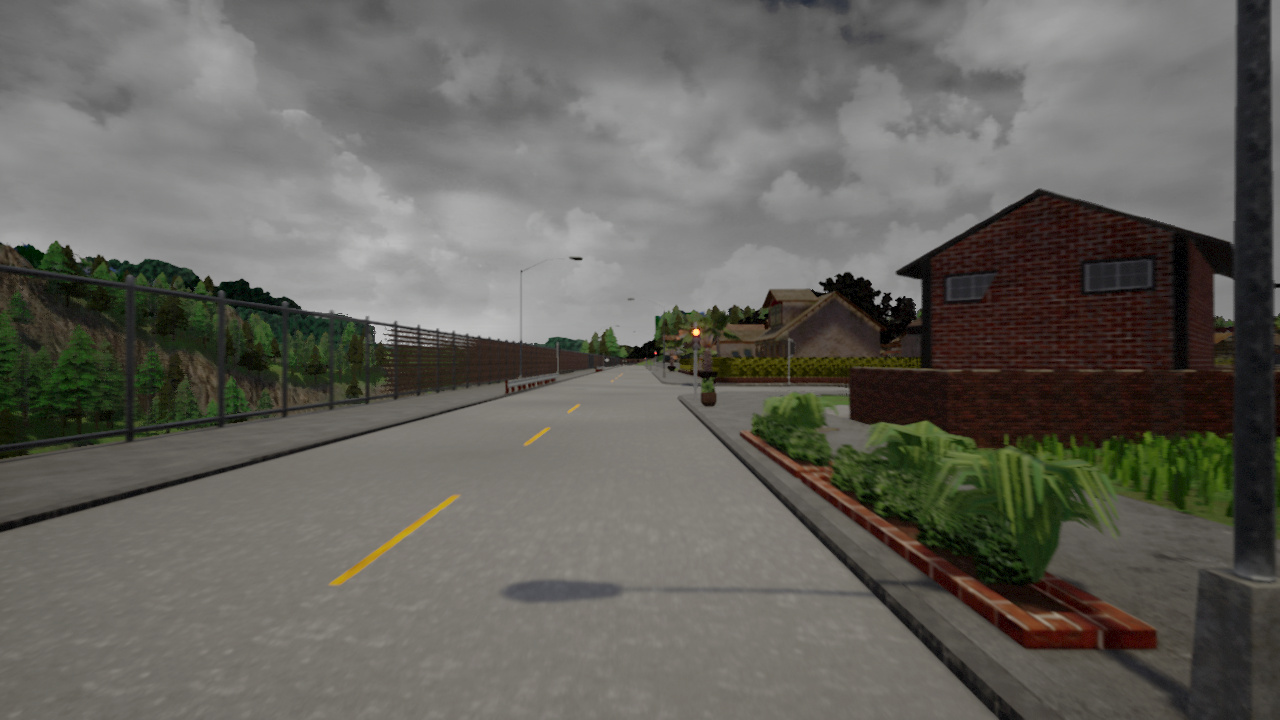red: (691, 328, 701, 352)
